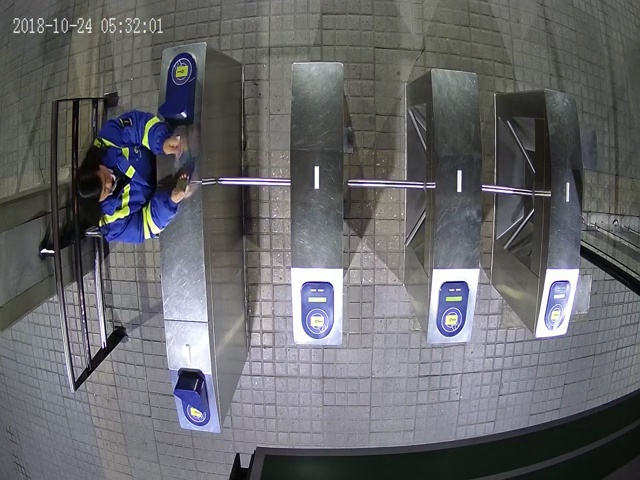Chaleco_azul: (75, 111, 192, 244)
